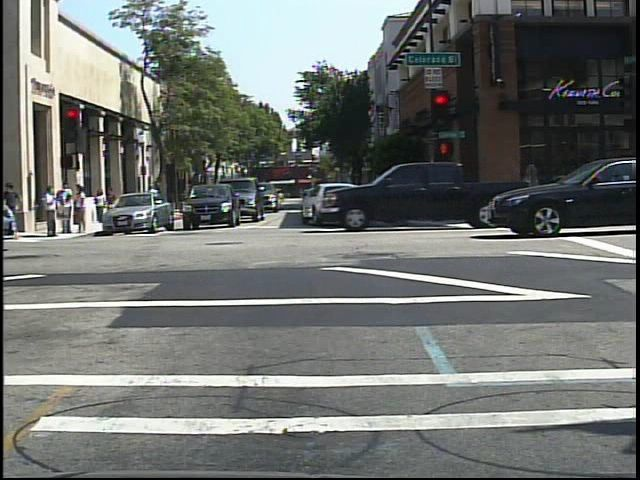person: (146, 180, 165, 218), (94, 187, 108, 225), (145, 180, 161, 212)
